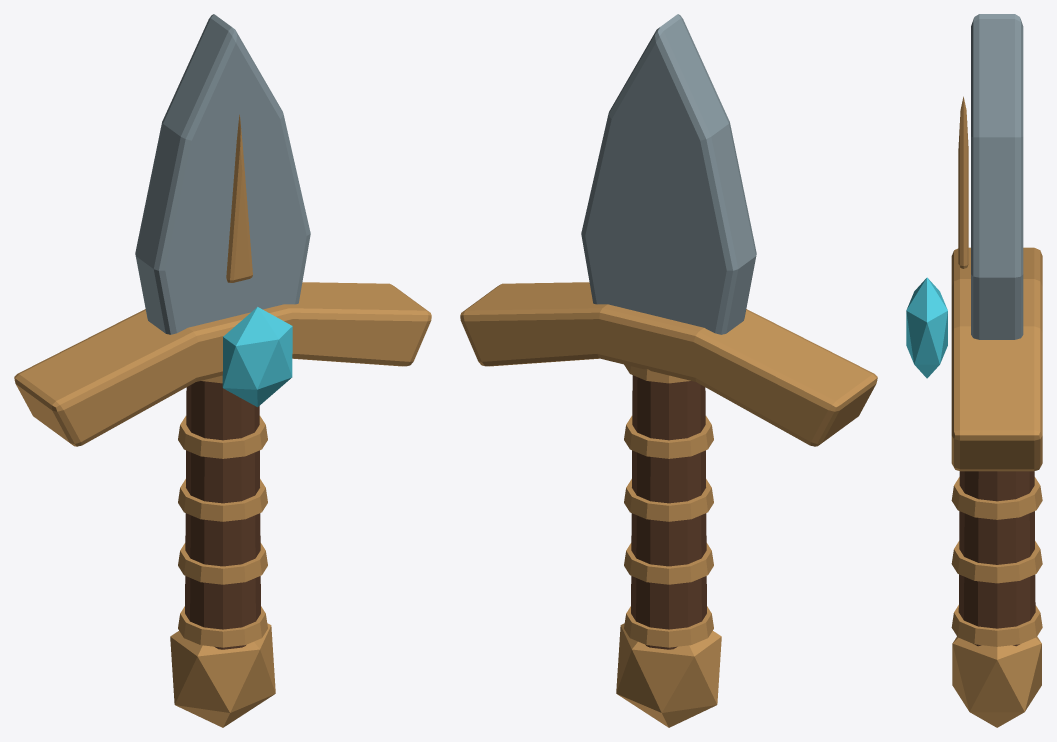
Rendered from Daggers.fbx.
The picture shows the model from 3 angles, left to right: view 1: azimuth 30°, elevation 25°; view 2: azimuth 150°, elevation 25°; view 3: azimuth 270°, elevation 25°; orthographic projection.
Parts seen in each view (by area): view 1: Arsenal_Daggers; view 2: Arsenal_Daggers; view 3: Arsenal_Daggers.
Part boxes in pixels (x1,y1,x2,y2): Arsenal_Daggers: [14, 14, 431, 727]; Arsenal_Daggers: [460, 14, 877, 727]; Arsenal_Daggers: [906, 14, 1042, 727].
Size of the model in its own units: 63.02 by 112 by 19.48.
